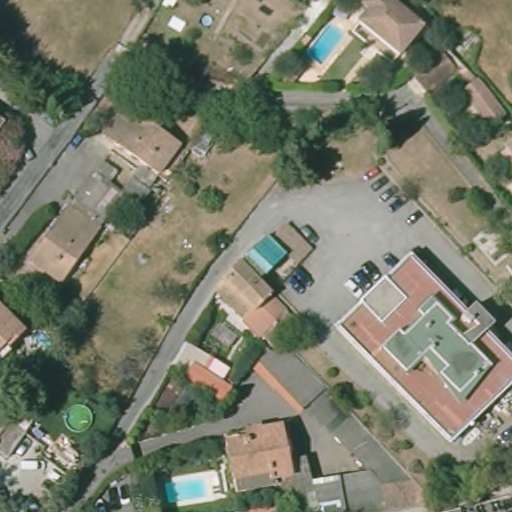pool: (301, 16, 344, 66), (162, 466, 218, 503), (62, 398, 97, 436)
